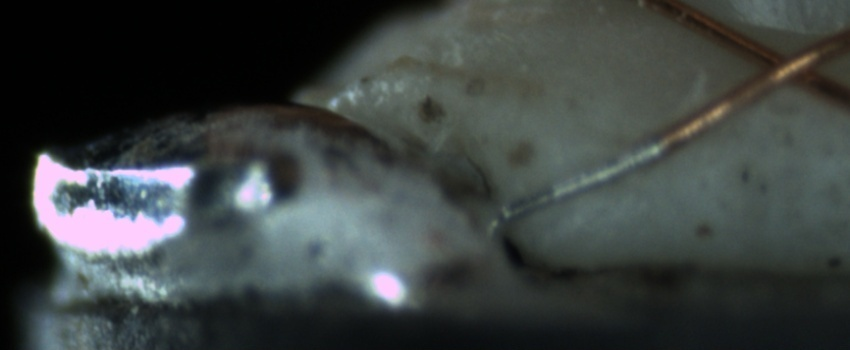CL: (739, 30, 838, 97)
TS: (495, 135, 664, 225)
